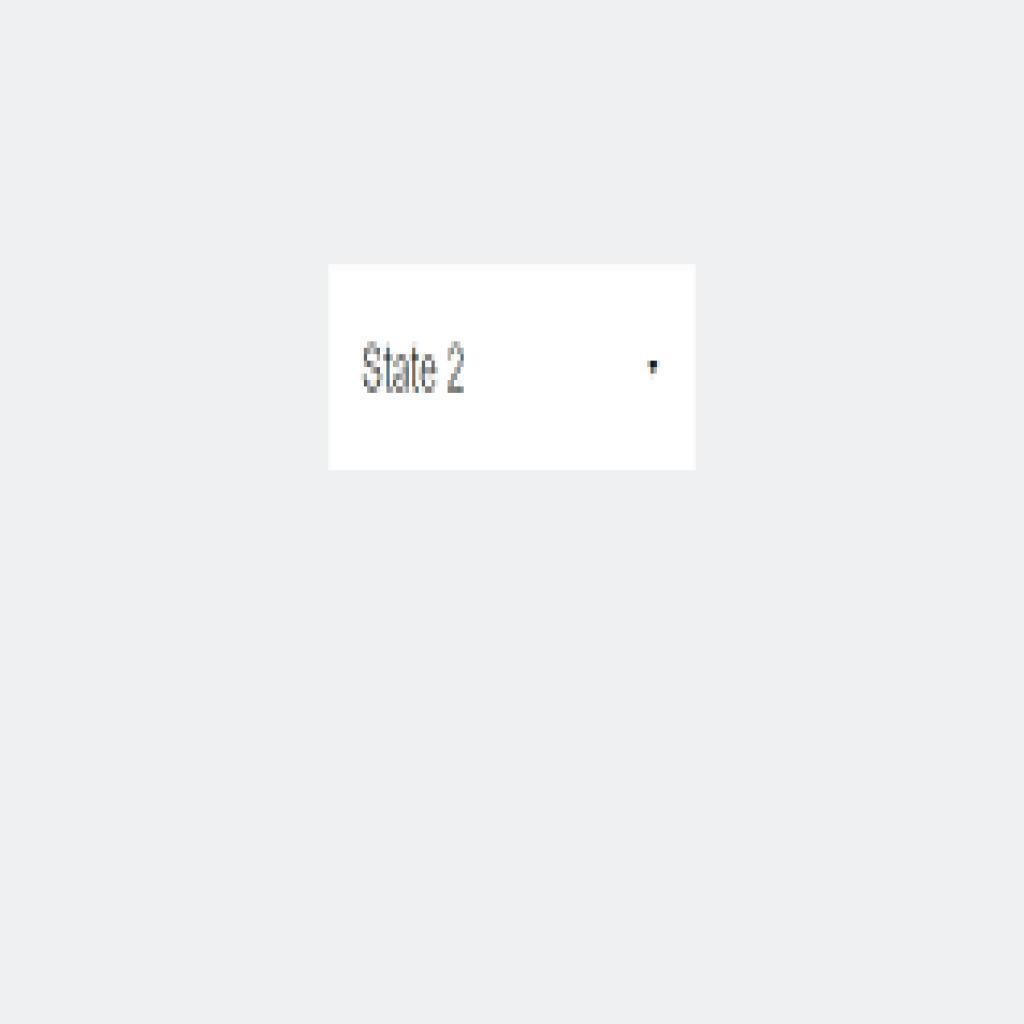dropdown: (324, 269, 696, 463)
